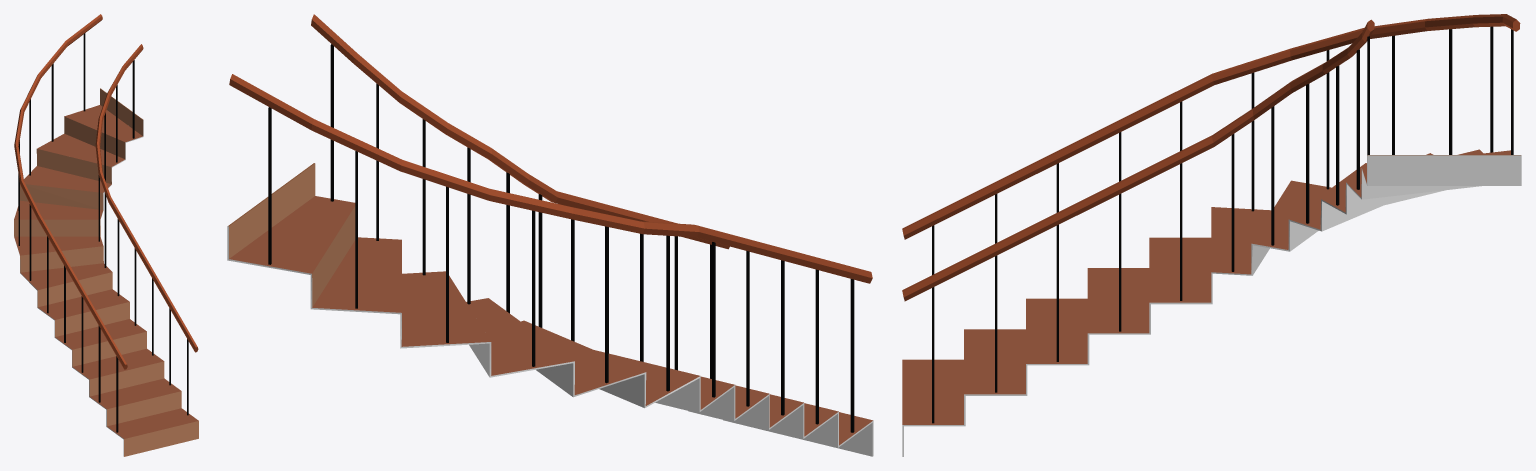
Rendered from stairs_topcurve_90.obj.
The picture shows the model from 3 angles, left to right: view 1: azimuth 30°, elevation 25°; view 2: azimuth 150°, elevation 25°; view 3: azimuth 270°, elevation 25°; orthographic projection. The views are drawn at different scales.
Parts seen in each view (by area): view 1: 43_43, 1_1.001, Cube.010, 1_1.000_1_1.002, Cube.011; view 2: 43_43, 1_1.001, Cube.010, Cube.011, 1_1.000_1_1.002; view 3: 43_43, 1_1.001, 1_1.000_1_1.002, Cube.011, Cube.010.
Part boxes in pixels (x1,y1,x2,y2): 43_43: (14,88,198,456); 1_1.001: (14,14,127,369); Cube.010: (18,33,118,432); 1_1.000_1_1.002: (95,44,198,352); Cube.011: (98,60,188,415); 43_43: (227,163,873,456); 1_1.001: (229,74,872,283); Cube.010: (268,107,854,432); Cube.011: (330,44,711,378); 1_1.000_1_1.002: (311,14,729,249); 43_43: (902,149,1521,456); 1_1.001: (902,14,1520,239); 1_1.000_1_1.002: (902,19,1374,301); Cube.011: (932,36,1369,423); Cube.010: (932,26,1513,274).
Bounding box in the file's own units: 200 × 358 × 401.
